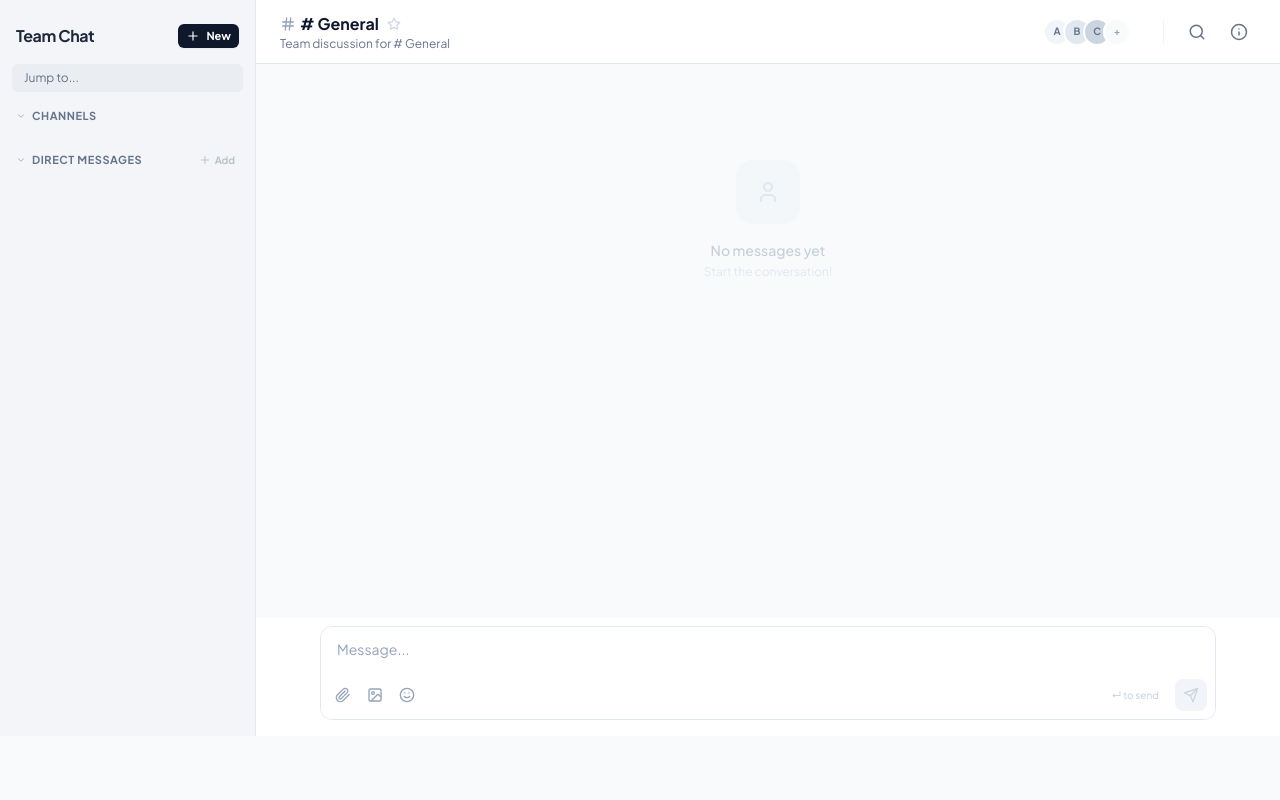
Test: ModernTeamChat Component › should show channel creation modal
Click the button "New" at (209, 36), box [178, 24, 239, 48]
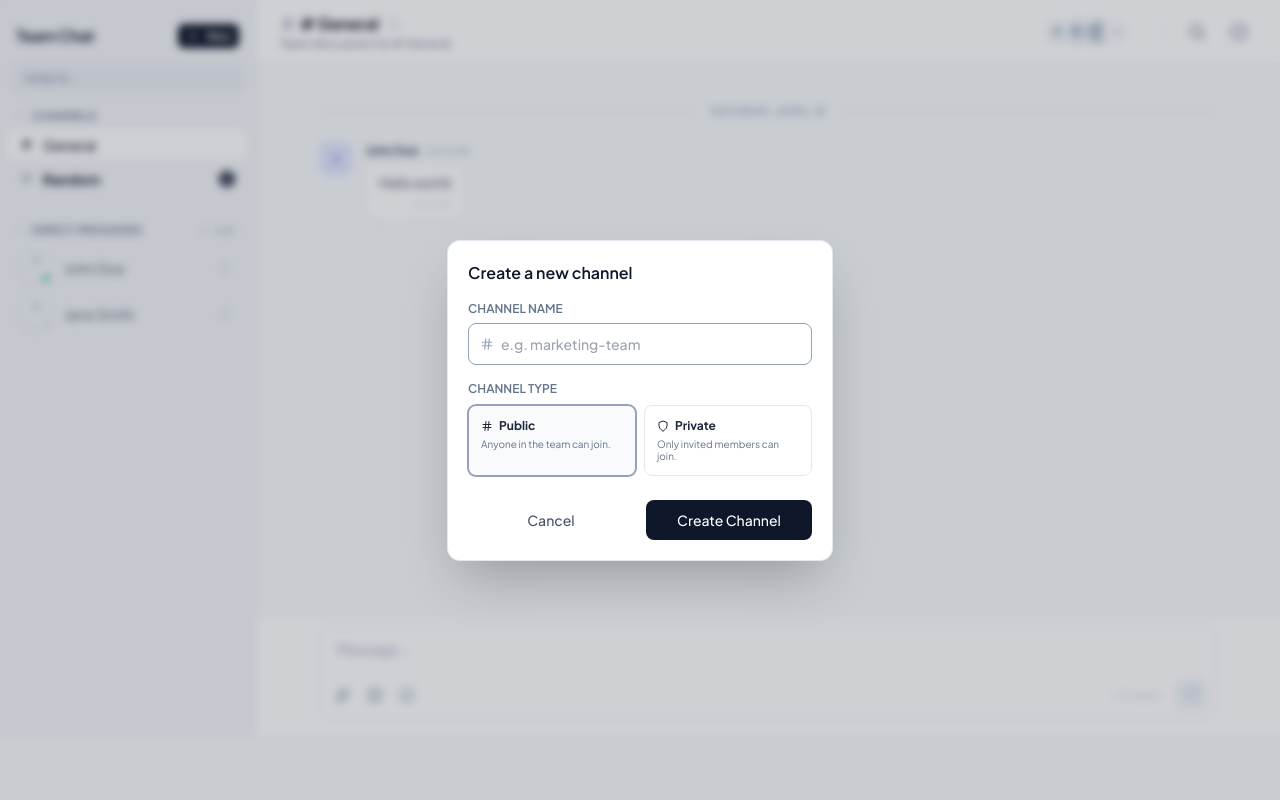
Expected: the heading "Create a new channel" is shown, [468, 262, 632, 282]
Expected: the field with placeholder "e.g. marketing-team" is shown, [468, 322, 812, 364]
